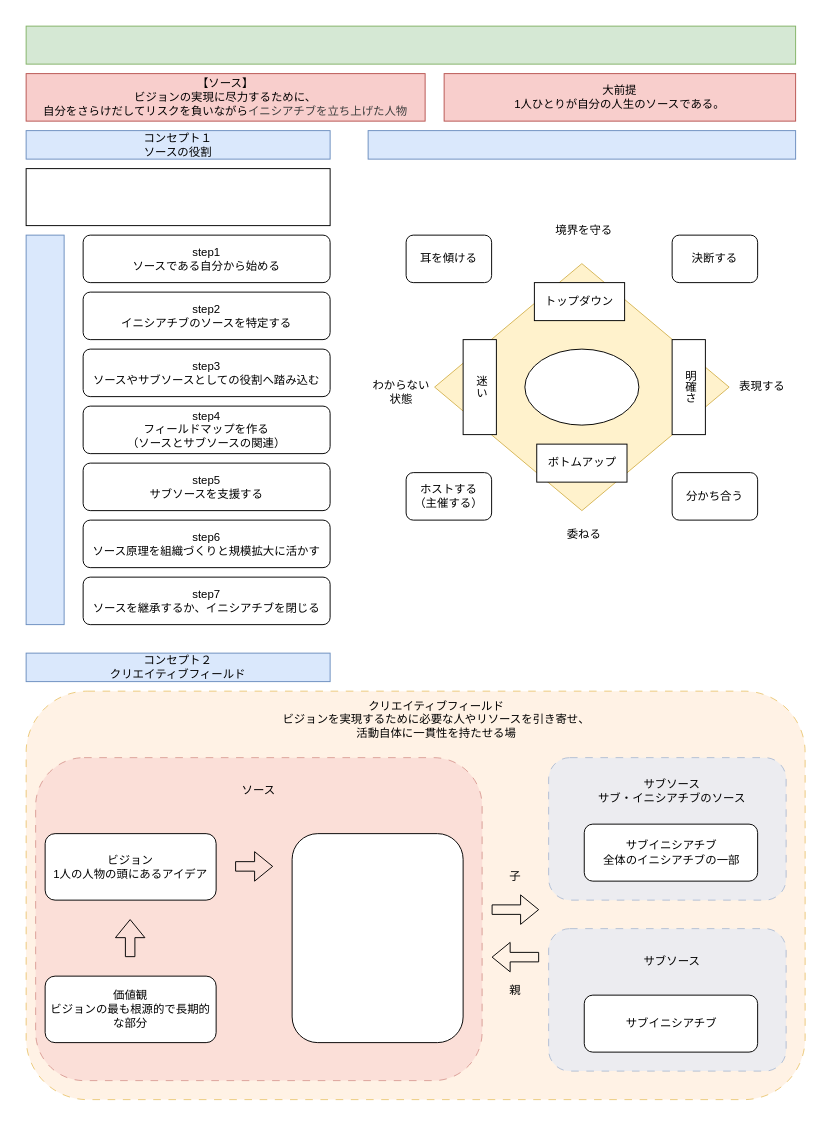
The diagram is 830 pixels wide and 1125 high, and some of its shapes have lost their labels. Each missing label, with the centre of its shape:
すべては1人から始まる ソース原理と２つのコンセプト: the point at 410,44
イニシアチブ ビジョンの実現という目的に向けた継続的なプロセス: the point at 377,938
ソースの役割は、 1人の個人が、傷つくかもしれないリスクを負いながら 最初の一歩を踏み出し、 アイデアの実現へ身を投じたとき、自然に生まれる。: the point at 177,197
ソースの行動も含めたソースコンパス P141: the point at 581,144
プロセス: the point at 44,429
統合的な アイデンティティ: the point at 581,386
